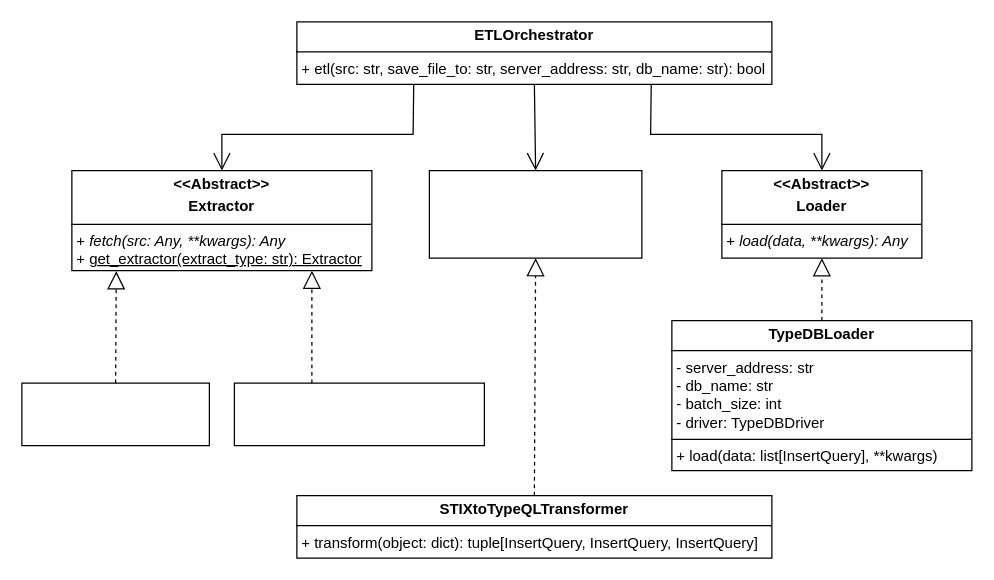
Some shapes in this 994 by 580 pixel diagram are drawn without their labels. The box of each missing label's shape, as (x1, y1, x2, y2) in pixels:
<< Abstract >> Transformer + transform(object: Any): Any: (428, 169, 642, 258)
Downloader + fetch(src: str, **kwargs): (21, 382, 209, 446)
STIXExtractor + fetch(src: str, **kwargs): generator: (233, 382, 484, 446)
